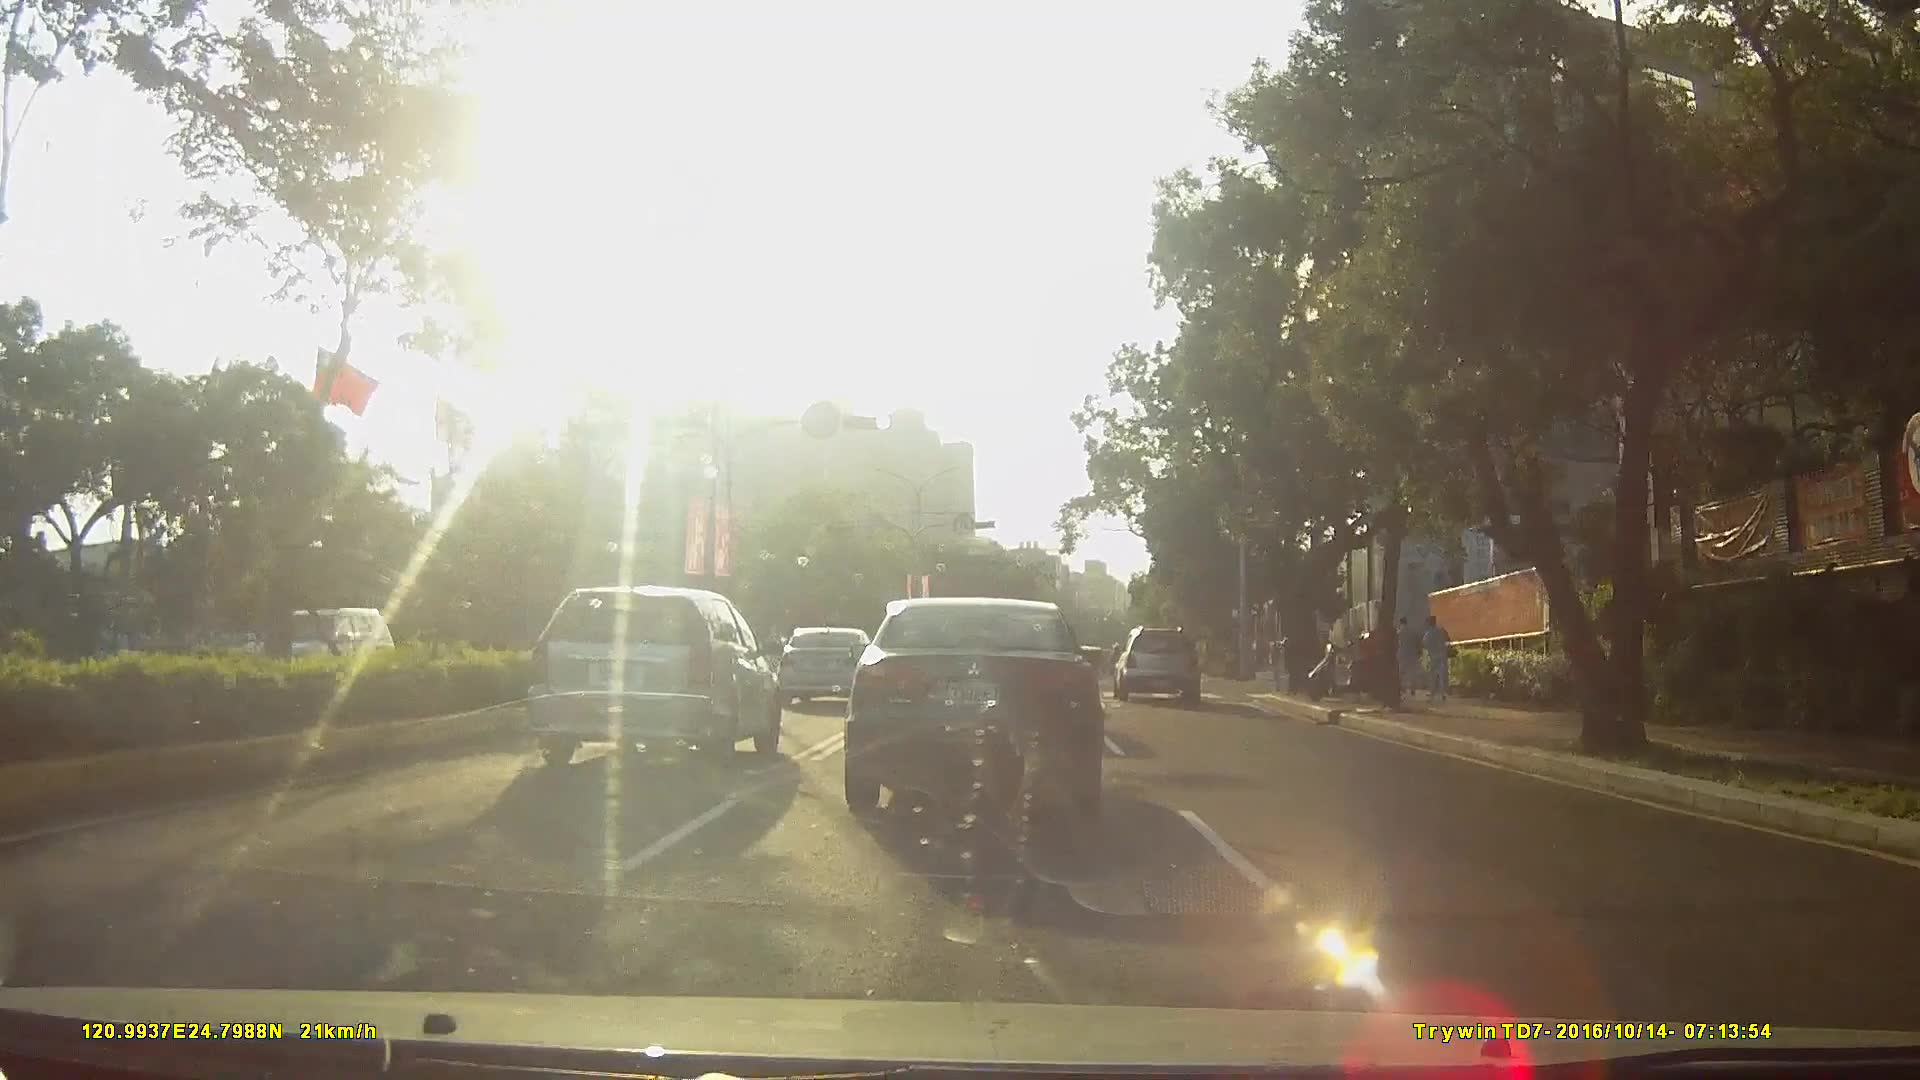pedestrian: (1420, 617, 1458, 707), (1399, 616, 1422, 695)
vehicle: (839, 597, 1105, 826), (521, 586, 780, 771), (239, 608, 398, 706), (774, 628, 876, 717), (1110, 624, 1210, 706)
